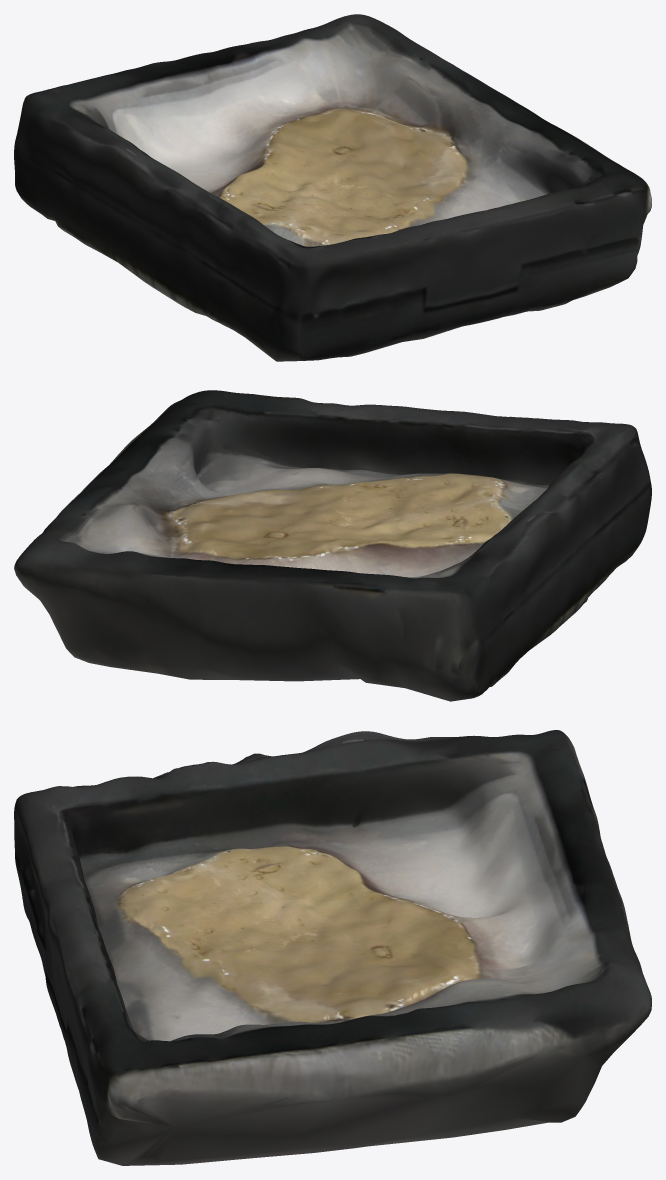
3 views of the same model, one above another, from view 1: azimuth 30°, elevation 25°; view 2: azimuth 150°, elevation 25°; view 3: azimuth 270°, elevation 25° (orthographic). The views are drawn at different scales.
Size of the model in its own units: 0.7024 by 0.2547 by 0.6803.
1 material, 1 textured.
